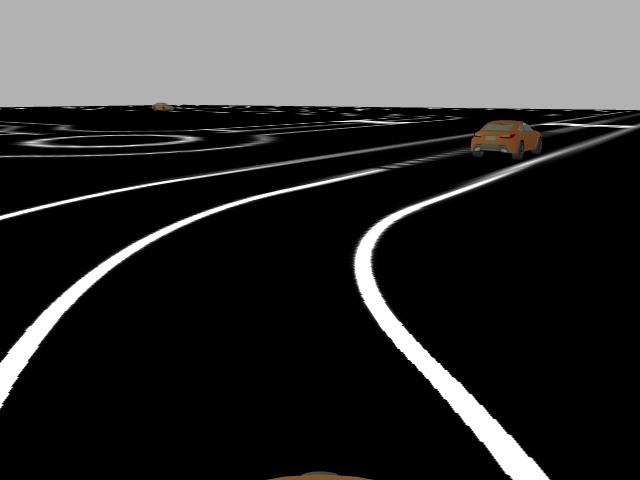obstacle_car: (466, 118, 547, 158)
